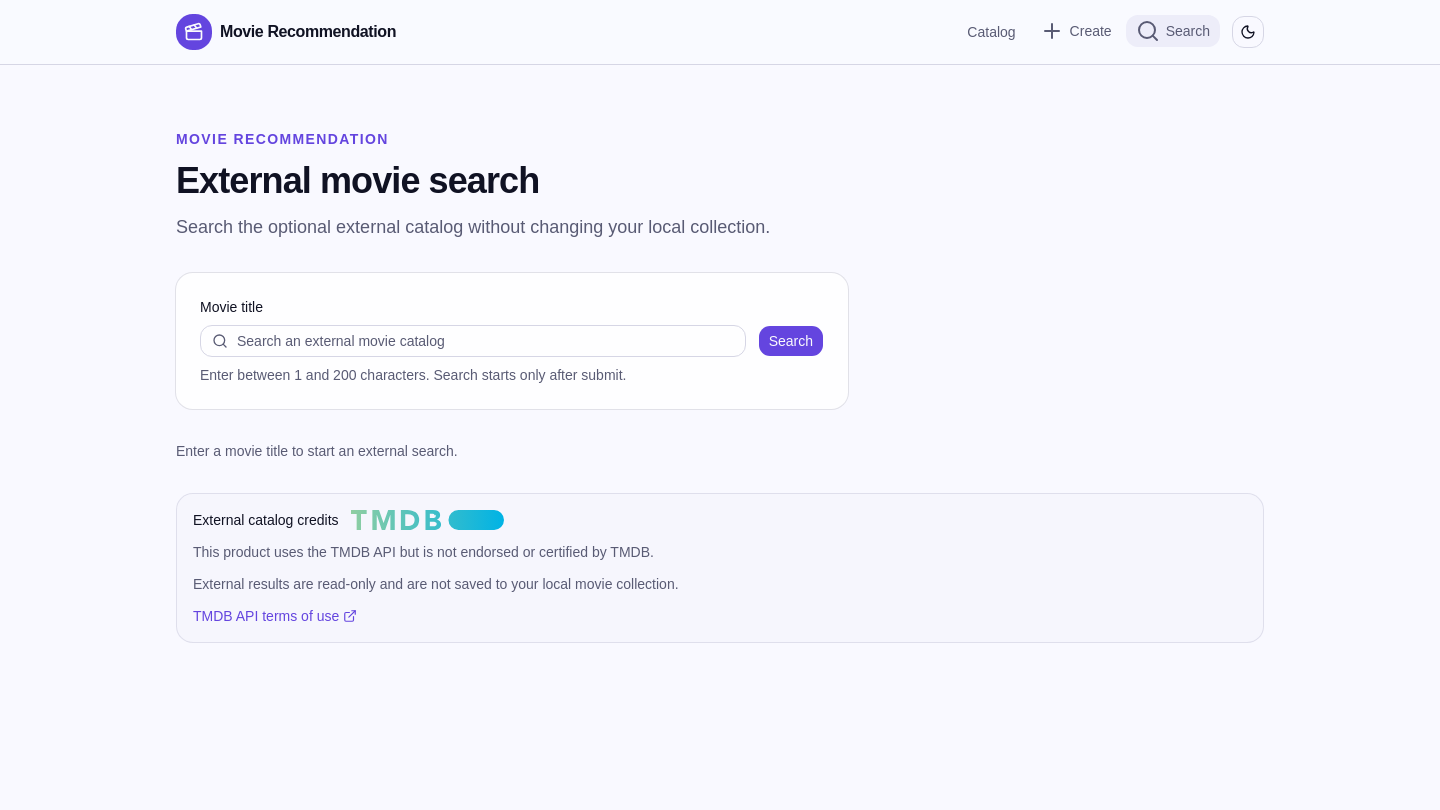
Test case: external search form › stores only a submitted query in the URL
Step 1. Type "Alien" into the field labelled "Movie title" → [473, 341], box [200, 325, 746, 357]
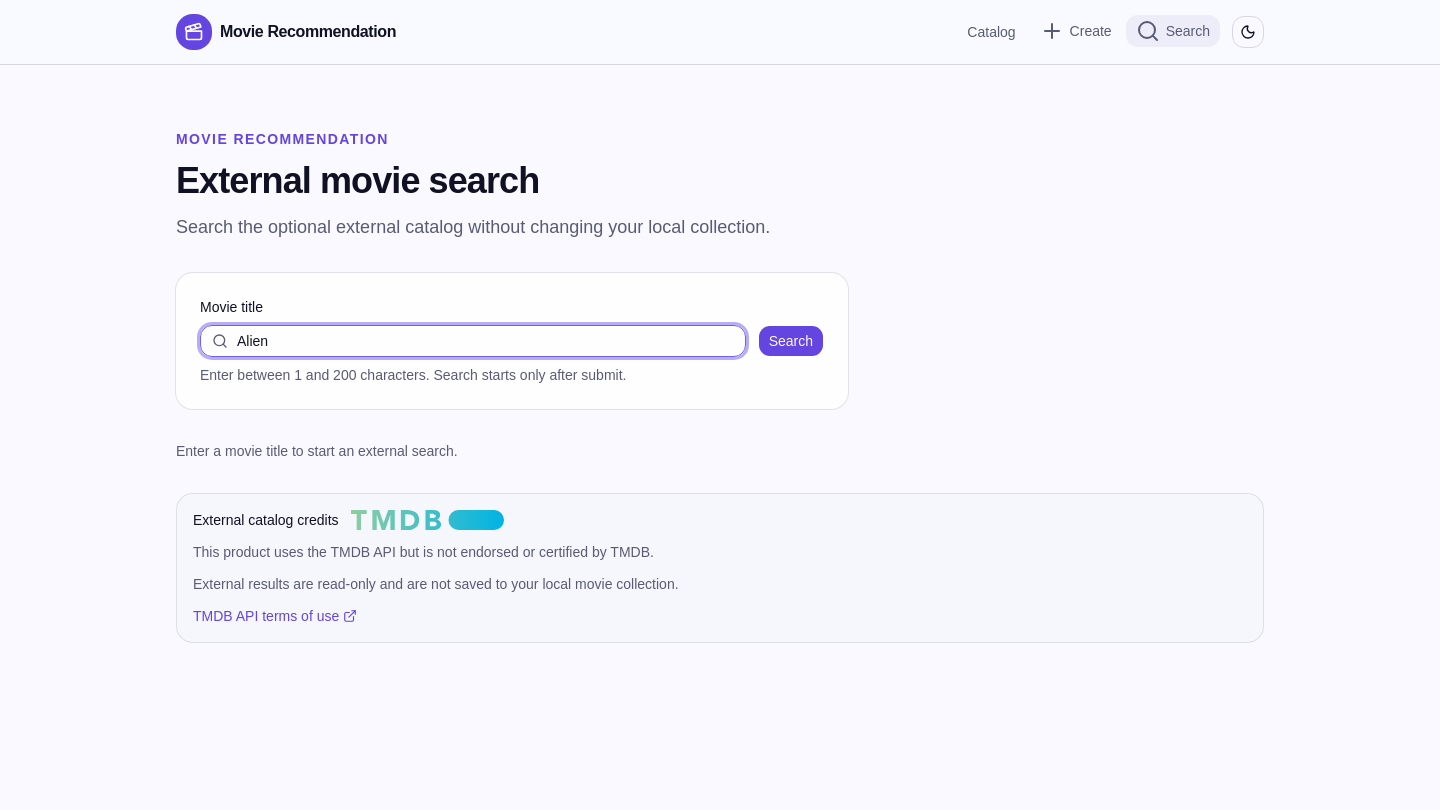
Expected: the message reads "Enter a movie title to start an external search.", [176, 443, 458, 459]
Step 2. Click the button "Search" → [791, 341], box [758, 325, 824, 357]
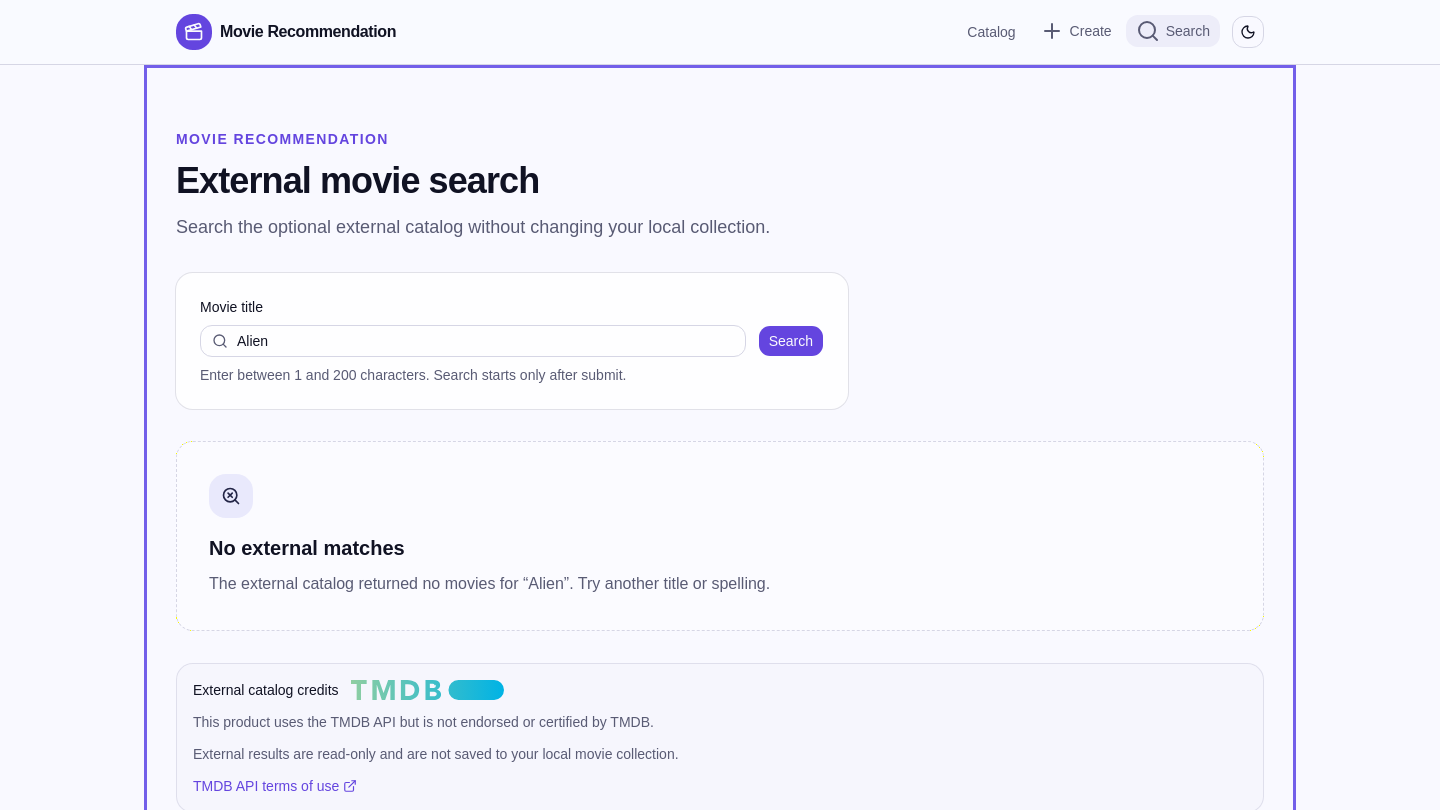
Expected: the heading "No external matches" is shown, [209, 537, 405, 559]
